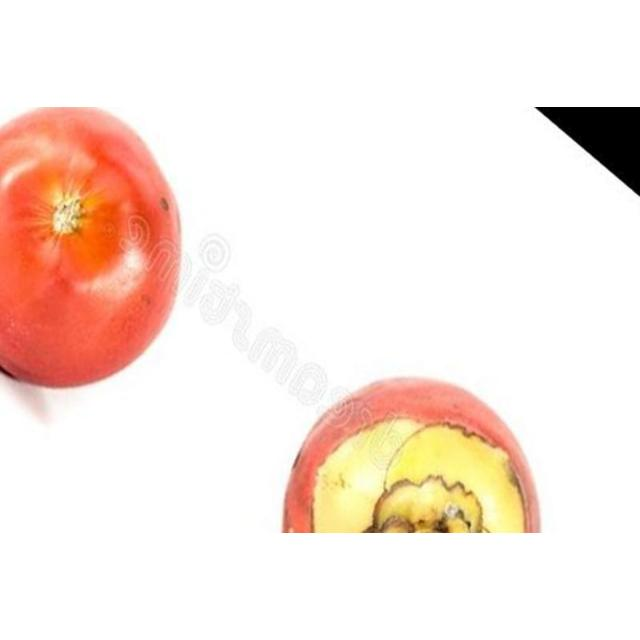good: (0, 107, 182, 390), (281, 380, 542, 533)
